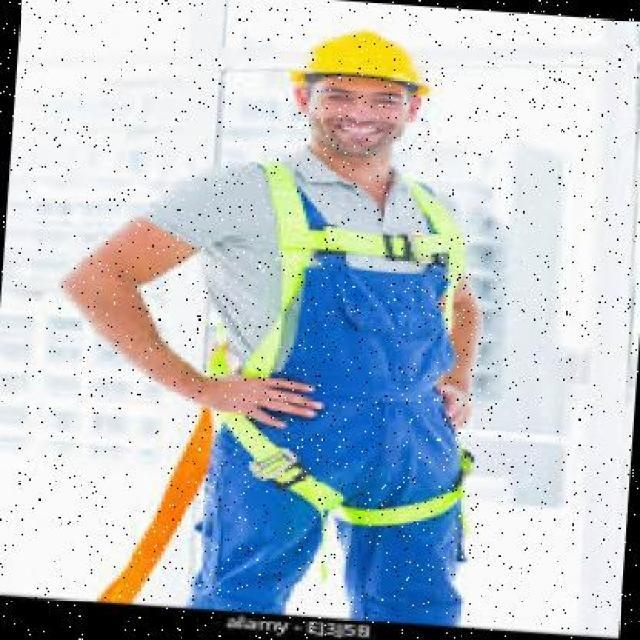Arnes_seguridad: (187, 148, 500, 534)
